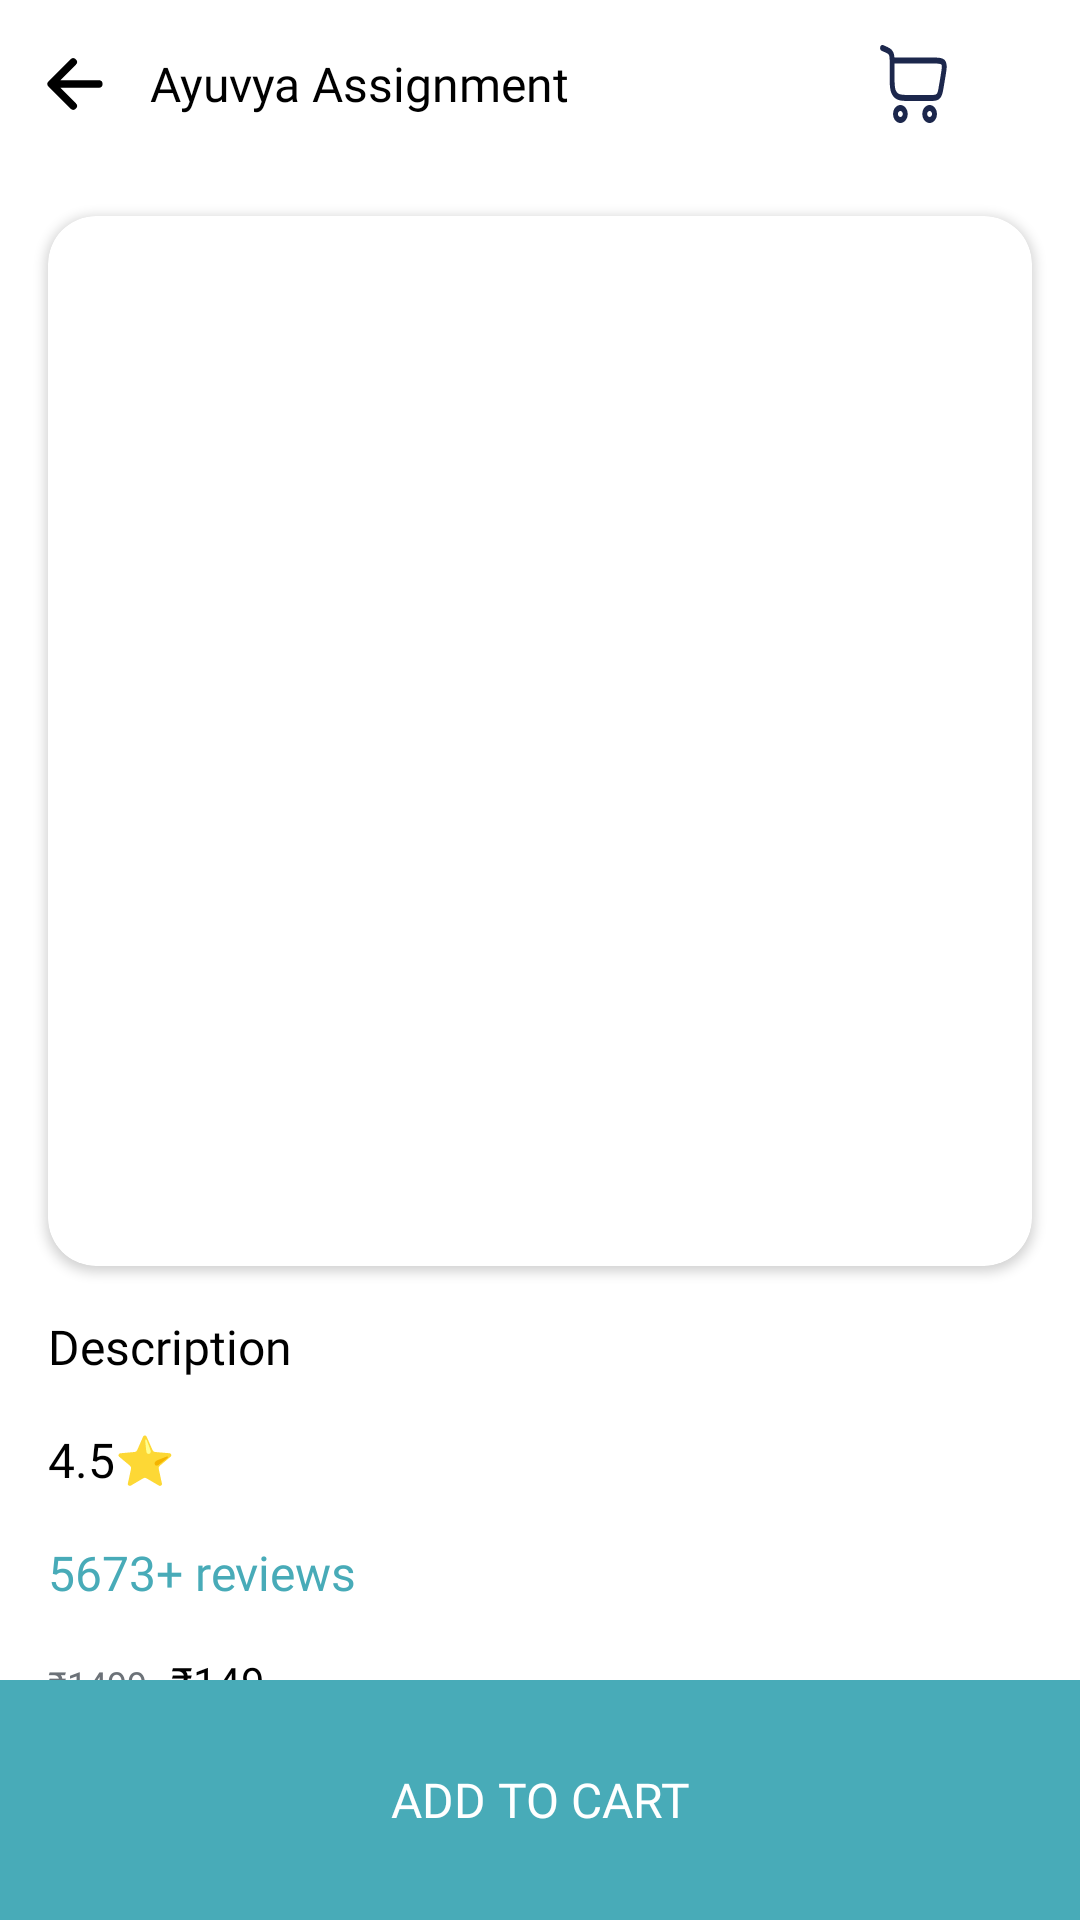

Icon click points for this 1080px×1920px phone screenshot, format (x=x, y=y):
back: (x=75, y=84)
cart: (x=913, y=84)
